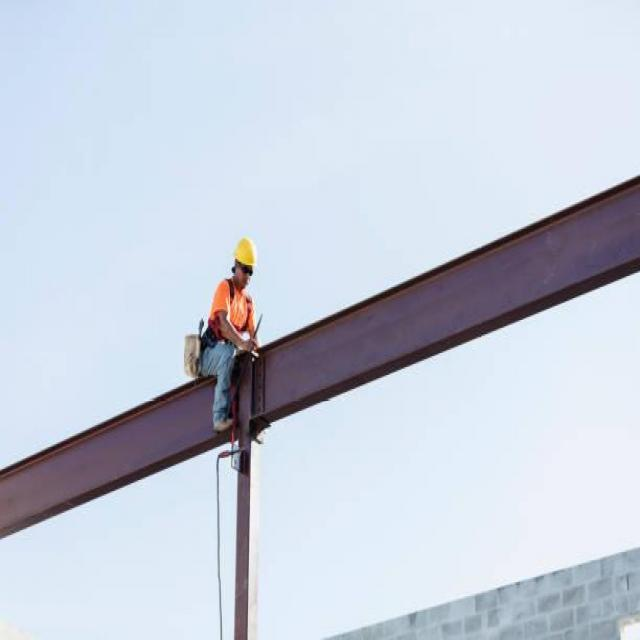belt: (198, 276, 252, 353)
